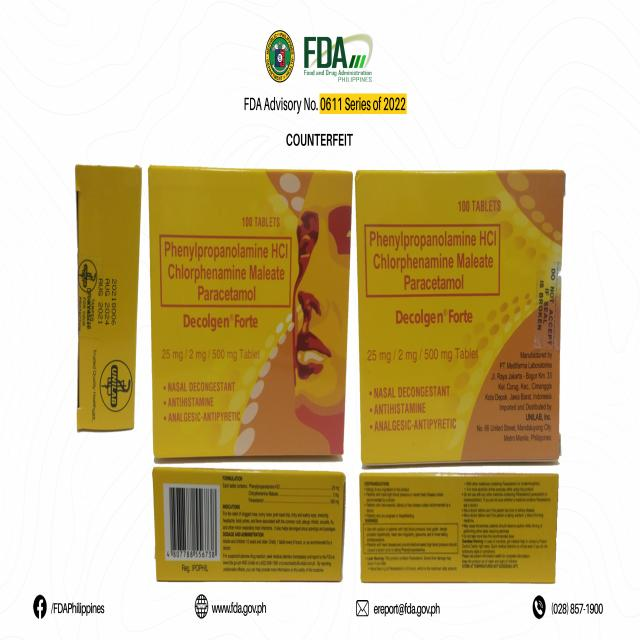counterfeit: (146, 161, 352, 467), (354, 164, 563, 465), (148, 471, 352, 588), (357, 472, 563, 584), (76, 158, 138, 432)
